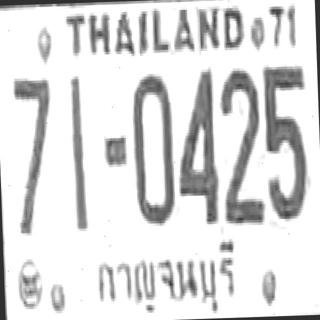N00: (130, 70, 174, 224)
N01: (67, 74, 87, 232)
N02: (218, 68, 262, 224)
N04: (175, 66, 218, 222)
N05: (262, 63, 309, 219)
N07: (10, 75, 55, 236), (10, 75, 53, 186)
P17: (88, 235, 242, 320)
